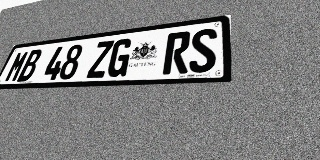4: (41, 46, 69, 80)
8: (57, 44, 85, 80)
B: (17, 49, 44, 82)
G: (105, 38, 134, 77)
M: (3, 50, 30, 82)
R: (162, 31, 191, 75)
S: (188, 28, 217, 73)
Z: (86, 40, 114, 78)
